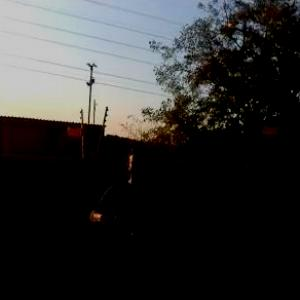follow: (80, 137, 172, 299)
